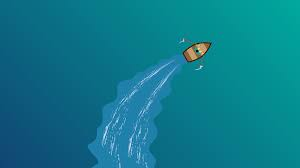boat: (182, 40, 212, 63)
